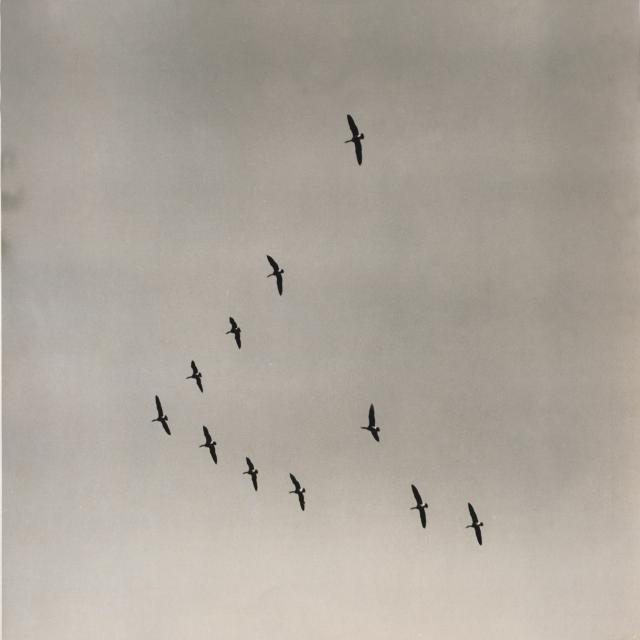bird: (343, 113, 365, 168), (466, 500, 486, 548), (265, 255, 286, 297), (412, 484, 431, 528), (363, 404, 382, 446), (153, 396, 172, 436), (200, 425, 218, 466), (288, 472, 306, 512), (243, 454, 261, 494), (187, 359, 205, 395), (226, 318, 244, 350)
